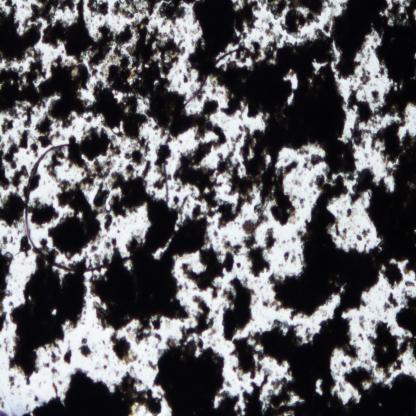Background material: (220, 32, 360, 178), (266, 173, 382, 318), (93, 190, 208, 332), (233, 311, 354, 415), (153, 290, 244, 415), (330, 0, 416, 116), (87, 21, 182, 124), (8, 258, 87, 378), (353, 133, 416, 277), (217, 127, 298, 233), (0, 57, 95, 143), (25, 366, 161, 415), (184, 0, 259, 86), (32, 1, 116, 66), (84, 156, 155, 224), (52, 175, 104, 258), (341, 362, 416, 415), (171, 136, 222, 212), (183, 239, 240, 298), (0, 0, 44, 63), (367, 318, 416, 374), (260, 0, 330, 36), (173, 102, 228, 145), (221, 275, 255, 343), (87, 0, 192, 22), (68, 128, 120, 170), (346, 73, 376, 145), (372, 117, 410, 163), (243, 230, 279, 276), (0, 140, 29, 190), (0, 247, 14, 333), (122, 138, 152, 178), (0, 185, 24, 231), (396, 285, 416, 336), (111, 329, 138, 366), (27, 196, 59, 226), (152, 144, 172, 187), (47, 150, 69, 178), (14, 236, 31, 260), (77, 336, 94, 360), (355, 307, 366, 343), (381, 291, 398, 310), (283, 248, 299, 264), (0, 393, 10, 415), (9, 370, 17, 394), (148, 354, 158, 370), (64, 348, 72, 366), (173, 196, 180, 206)
Diatom: (243, 220, 254, 234)
Microfibre: (25, 47, 256, 269)
